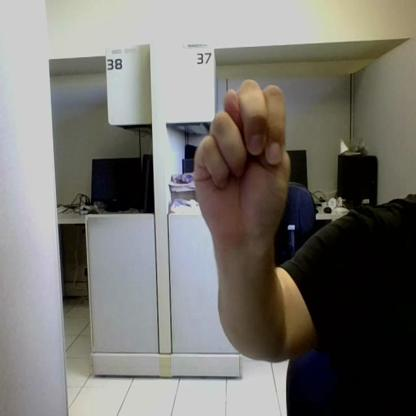N: (195, 79, 291, 239)
